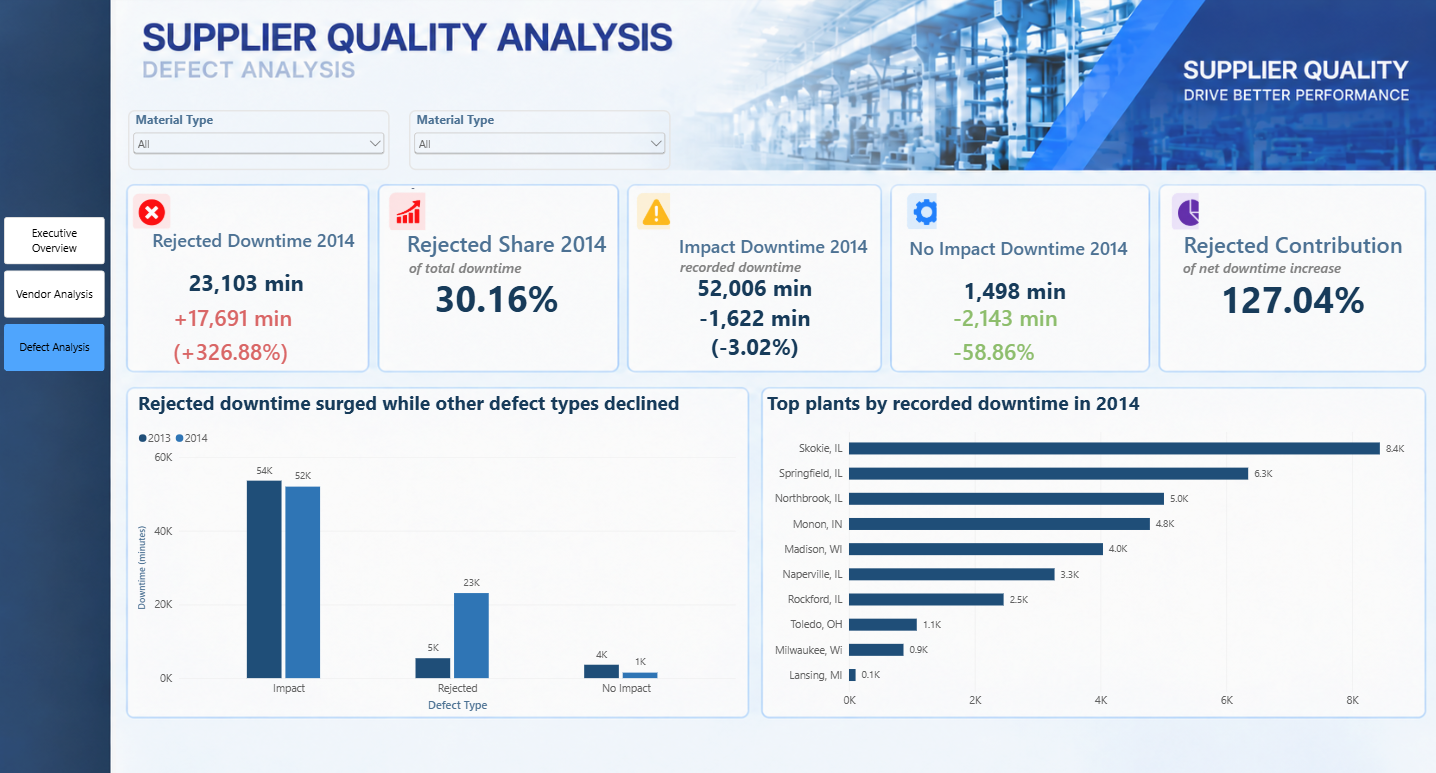

This screenshot's page, from the dashboard's own definition file:
{"tool":"powerbi","page":{"name":"Defect Analysis","canvas":[1920,1080],"ordinal":2},"visuals":[{"type":"cardVisual","title":"Total Downtime","fields":{"Data":["*Measure.Rejected Downtime Display"]},"box":[171.6,283.3,320.5,143.6],"z":0},{"type":"image","box":[171.6,255.4,62.5,55.9],"z":1},{"type":"cardVisual","fields":{"Data":["*Measure.Rejected Change Display"]},"box":[218.1,371.1,227.4,110.4],"z":2},{"type":"cardVisual","fields":{"Data":["*Measure.Rejected Change % Display"]},"box":[218.1,416.3,227.4,110.4],"z":3},{"type":"cardVisual","title":"Total Downtime","fields":{"Data":["*Measure.Rejected Share 2014 Display"]},"box":[502.8,248.7,324.5,244.7],"z":4},{"type":"image","box":[502.8,255.4,77.1,55.9],"z":5},{"type":"textbox","box":[548,348.5,234.1,46.6],"z":6},{"type":"cardVisual","title":"Total Downtime","fields":{"Data":["*Measure.Impact KPI Display"]},"box":[841.9,255.4,332.5,291.3],"z":7},{"type":"image","box":[827.3,255.4,81.1,55.9],"z":8},{"type":"textbox","box":[908.4,347.1,252.7,47.9],"z":9},{"type":"cardVisual","title":"Total Downtime","fields":{"Data":["*Measure.No Impact Downtime Display"]},"box":[1187.7,230.1,332.5,270],"z":10},{"type":"image","box":[1187.7,255.4,67.8,55.9],"z":11},{"type":"cardVisual","fields":{"Data":["*Measure.No Impact Change Display"]},"box":[1255.6,371.1,224.8,110.4],"z":12},{"type":"cardVisual","fields":{"Data":["*Measure.No Impact Change %"]},"box":[1255.6,416.3,224.8,110.4],"z":13},{"type":"image","box":[1520.2,255.4,101.1,55.9],"z":14},{"type":"cardVisual","title":"Total Downtime","fields":{"Data":["*Measure.Rejected Contribution Display"]},"box":[1561.5,250,324.5,244.7],"z":15},{"type":"textbox","box":[1577.4,348.5,291.3,53.2],"z":16},{"type":"clusteredColumnChart","title":"Rejected downtime surged while other defect types declined","fields":{"Category":["DefectTypeTable.Defect Type"],"Series":["DateTable.Year"],"Y":["*Measure.Total Downtime"]},"box":[171.6,509.4,827.3,458.9],"z":17},{"type":"clusteredBarChart","title":"Top plants by recorded downtime in 2014","fields":{"Category":["PlantTable.Plant"],"Y":["*Measure.Downtime 2014"]},"box":[1008.2,509.4,901.8,458.9],"z":18},{"type":"slicer","fields":{"Values":["MaterialTypeTable.Material Type"]},"box":[174.5,151.1,348.5,79.8],"z":19},{"type":"slicer","fields":{"Values":["MaterialTypeTable.Material Type"]},"box":[548,151.6,348.5,79.8],"z":20},{"type":"pageNavigator","box":[9.3,293.9,134.3,207.5],"z":21}]}

Visuals, with their boxes on the page's 1920x1080 design canvas (x1, y1, x2, y2). These are canvas units, not pixel positions in the 1436x773 screenshot, which may show the page scaled, cropped or inside an application window:
"Total Downtime" cardVisual: crop(172, 283, 492, 427)
image: crop(172, 255, 234, 311)
cardVisual - *Measure.Rejected Change Display: crop(218, 371, 446, 482)
cardVisual - *Measure.Rejected Change % Display: crop(218, 416, 446, 527)
"Total Downtime" cardVisual: crop(503, 249, 827, 493)
image: crop(503, 255, 580, 311)
textbox: crop(548, 348, 782, 395)
"Total Downtime" cardVisual: crop(842, 255, 1174, 547)
image: crop(827, 255, 908, 311)
textbox: crop(908, 347, 1161, 395)
"Total Downtime" cardVisual: crop(1188, 230, 1520, 500)
image: crop(1188, 255, 1256, 311)
cardVisual - *Measure.No Impact Change Display: crop(1256, 371, 1480, 482)
cardVisual - *Measure.No Impact Change %: crop(1256, 416, 1480, 527)
image: crop(1520, 255, 1621, 311)
"Total Downtime" cardVisual: crop(1562, 250, 1886, 495)
textbox: crop(1577, 348, 1869, 402)
"Rejected downtime surged while other defect types declined" clusteredColumnChart: crop(172, 509, 999, 968)
"Top plants by recorded downtime in 2014" clusteredBarChart: crop(1008, 509, 1910, 968)
slicer - MaterialTypeTable.Material Type: crop(174, 151, 523, 231)
slicer - MaterialTypeTable.Material Type: crop(548, 152, 896, 231)
pageNavigator: crop(9, 294, 144, 501)
